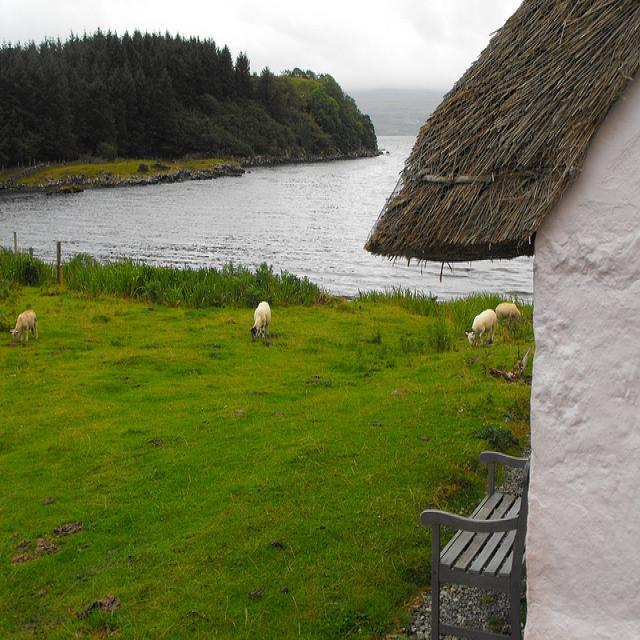cow: (8, 308, 36, 340)
